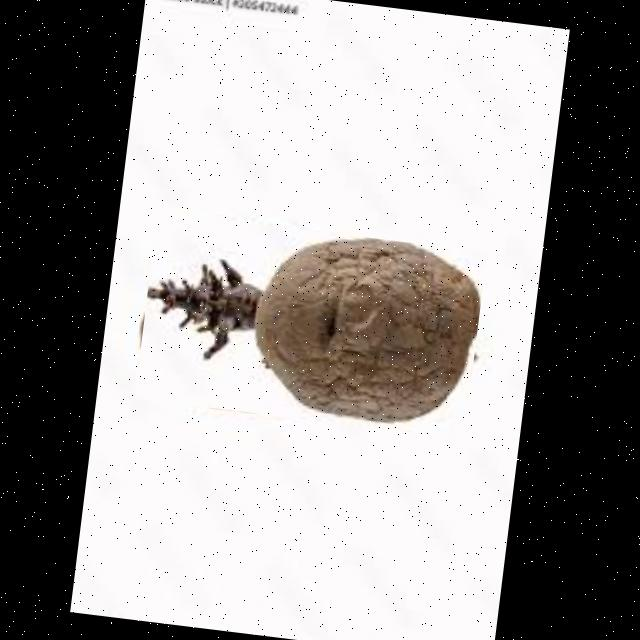Sprouted potato: (134, 210, 487, 438)
